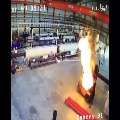fire: (78, 30, 95, 90)
